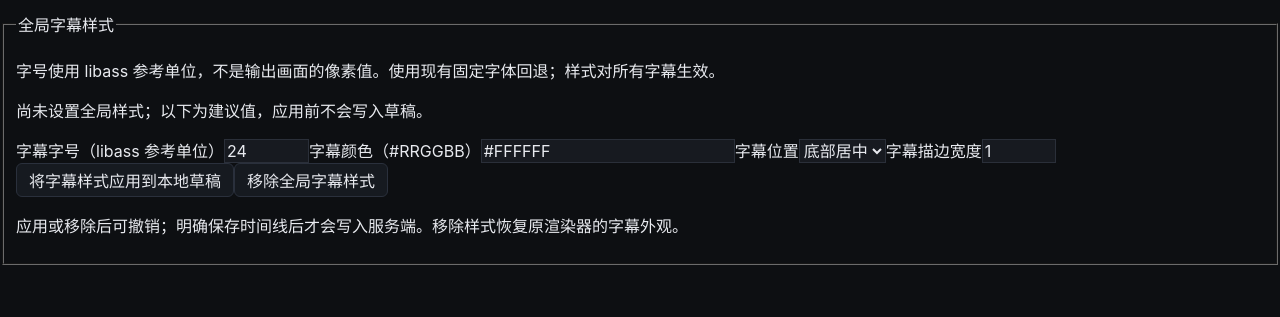
it: rejects invalid staged 字幕字号（libass 参考单位）=7
Replace the text in the number field labelled "字幕字号（libass 参考单位）" with "7": (267,151) [224,139,309,163]
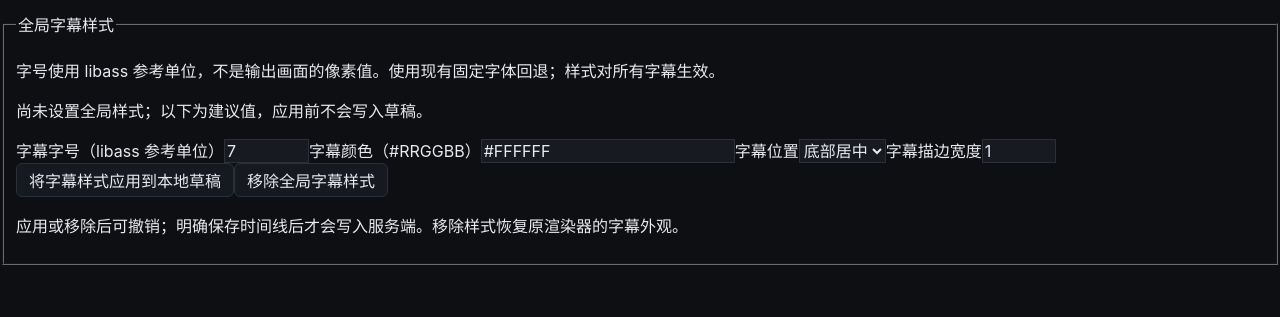
Click the button "将字幕样式应用到本地草稿": (125,180) [16,163,234,197]
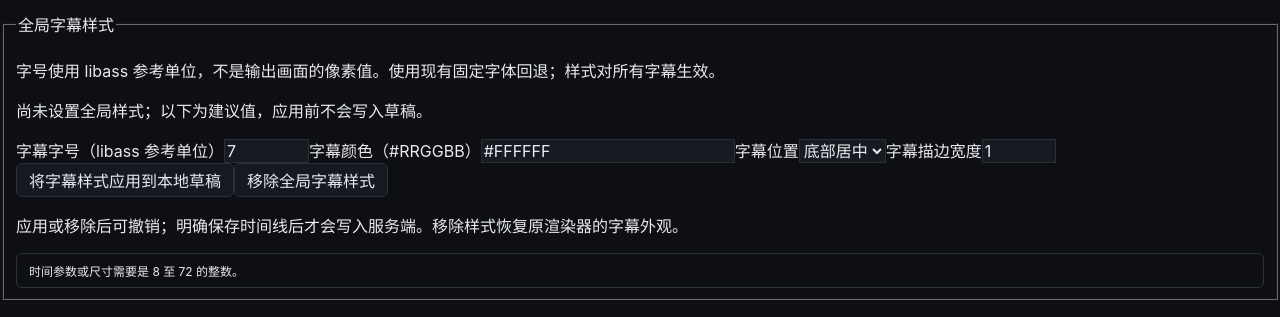
Check: the message "时间参数或尺寸需要是 8 至 72 的整数。" is shown, box [16,253,1264,288]
